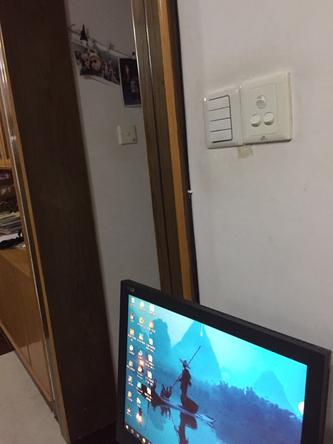switch: (205, 129, 239, 143), (203, 123, 238, 134), (202, 97, 234, 107), (205, 110, 235, 120), (262, 112, 278, 128), (251, 94, 270, 107), (247, 114, 262, 129)
